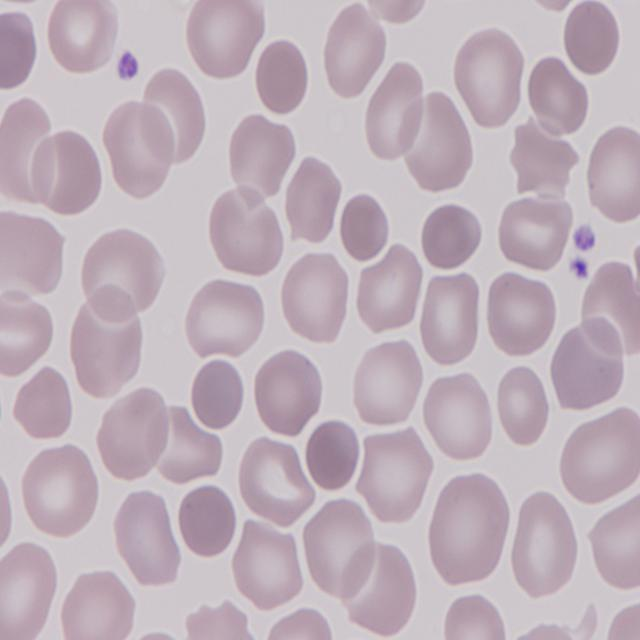RBC: (428, 471, 516, 589), (17, 442, 100, 544), (506, 491, 582, 601), (557, 407, 640, 507), (450, 27, 525, 134), (74, 229, 160, 322), (300, 497, 376, 602), (102, 96, 176, 201), (184, 276, 272, 364), (235, 438, 318, 530), (93, 384, 169, 484), (356, 431, 434, 528), (206, 184, 286, 278), (348, 334, 426, 429), (420, 366, 494, 464), (278, 252, 351, 350), (550, 322, 626, 416), (138, 67, 210, 165), (110, 486, 178, 588), (234, 518, 306, 614), (362, 62, 429, 165), (486, 269, 561, 361), (250, 345, 324, 438), (320, 3, 390, 100), (419, 271, 487, 370), (226, 110, 296, 206), (352, 245, 423, 338), (186, 0, 267, 80), (30, 129, 107, 213), (496, 194, 574, 275), (0, 534, 63, 634), (280, 155, 344, 251), (582, 126, 640, 226), (0, 210, 65, 298), (57, 571, 139, 640), (46, 0, 121, 74), (587, 493, 640, 594), (561, 0, 627, 77), (525, 55, 590, 133), (492, 362, 550, 449), (0, 290, 58, 376), (13, 364, 76, 443), (420, 198, 484, 271), (440, 590, 510, 640), (0, 10, 40, 96), (183, 602, 256, 640), (263, 606, 340, 640)
Spherocyte: (253, 39, 314, 122), (177, 482, 240, 560), (188, 354, 247, 432), (334, 190, 392, 266), (302, 423, 360, 498)
